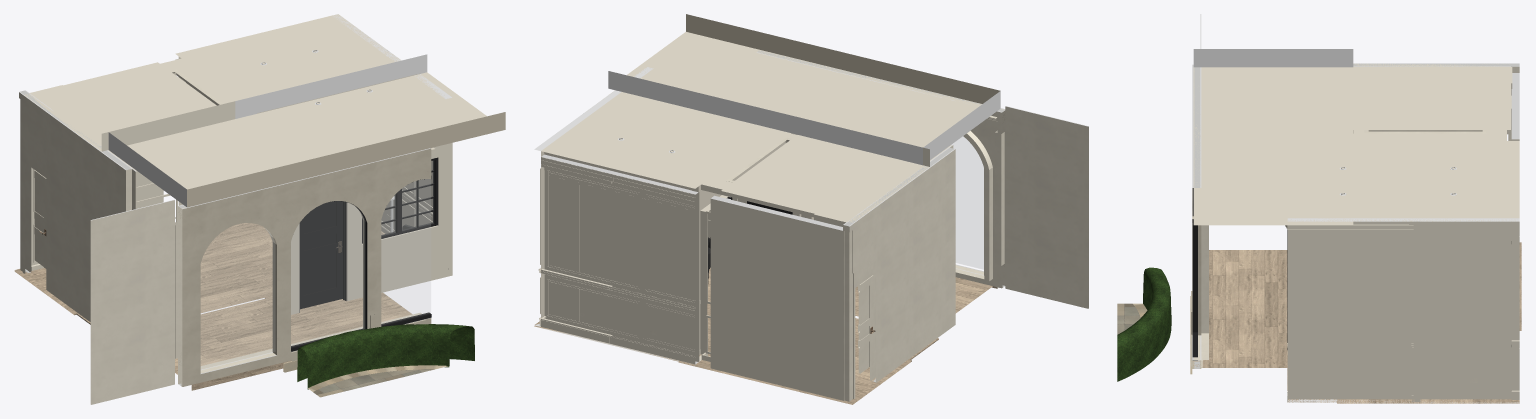
Rendered from office-east-dfb946144657.glb.
The picture shows the model from 3 angles, left to right: view 1: azimuth 30°, elevation 25°; view 2: azimuth 150°, elevation 25°; view 3: azimuth 270°, elevation 25°; orthographic projection. The views are drawn at different scales.
Parts seen in each view (by area): view 1: office-east-look-dbd60ee5c3733ed6, office-east-look-c9e78b9ec1bb39cd, office-east-look-d5a4a1b5d3594c04, office-east-look-6a051330000fbca1, office-east-look-2575515a05775d9e, office-east-2575515a05775d9e, office-east-look-38561c12898e4d43, office-east-look-c02a36d0521470a9, office-east-look-e7e6fa835f441169, office-east-look-c374268555806af8, office-east-7dc307bfa7ee071d, office-east-look-5cbcc744e6f960f3 (+15 smaller); view 2: office-east-look-dbd60ee5c3733ed6, office-east-look-19647d6da46c2b80, office-east-19647d6da46c2b80, office-east-look-6a051330000fbca1, office-east-look-d5a4a1b5d3594c04, office-east-2575515a05775d9e, office-east-look-2575515a05775d9e, office-east-look-38561c12898e4d43, office-east-7b11e78295c2e11d, office-east-look-c9e78b9ec1bb39cd, office-east-look-0d8abb8bf9b53894, office-east-dbd60ee5c3733ed6 (+17 smaller); view 3: office-east-6a1144f4e43410bb, office-east-look-dbd60ee5c3733ed6, office-east-2575515a05775d9e, office-east-look-2575515a05775d9e, office-east-look-c374268555806af8, office-east-dbd60ee5c3733ed6, office-east-look-e7e6fa835f441169, office-east-7dc307bfa7ee071d, office-east-look-c9e78b9ec1bb39cd, office-east-look-0d8abb8bf9b53894, office-east-19647d6da46c2b80, office-east-07b6babc03834d5e (+18 smaller).
Part boxes in pixels (<box>): office-east-look-dbd60ee5c3733ed6: <box>108,54,505,207</box>; office-east-look-c9e78b9ec1bb39cd: <box>178,148,431,386</box>; office-east-look-d5a4a1b5d3594c04: <box>90,199,174,404</box>; office-east-look-6a051330000fbca1: <box>19,90,136,321</box>; office-east-look-2575515a05775d9e: <box>24,62,235,151</box>; office-east-2575515a05775d9e: <box>175,14,420,113</box>; office-east-look-38561c12898e4d43: <box>201,223,275,369</box>; office-east-look-c02a36d0521470a9: <box>291,201,364,346</box>; office-east-look-e7e6fa835f441169: <box>297,324,474,389</box>; office-east-look-c374268555806af8: <box>175,292,412,390</box>; office-east-7dc307bfa7ee071d: <box>293,97,445,313</box>; office-east-look-5cbcc744e6f960f3: <box>381,179,430,324</box>; office-east-look-dbd60ee5c3733ed6: <box>608,14,1000,165</box>; office-east-look-19647d6da46c2b80: <box>710,195,842,400</box>; office-east-19647d6da46c2b80: <box>541,154,699,364</box>; office-east-look-6a051330000fbca1: <box>843,144,955,401</box>; office-east-look-d5a4a1b5d3594c04: <box>1005,106,1088,308</box>; office-east-2575515a05775d9e: <box>541,92,771,188</box>; office-east-look-2575515a05775d9e: <box>721,135,929,222</box>; office-east-look-38561c12898e4d43: <box>952,137,983,269</box>; office-east-7b11e78295c2e11d: <box>692,110,808,361</box>; office-east-look-c9e78b9ec1bb39cd: <box>756,50,1005,288</box>; office-east-look-0d8abb8bf9b53894: <box>701,129,951,226</box>; office-east-dbd60ee5c3733ed6: <box>615,67,807,129</box>; office-east-6a1144f4e43410bb: <box>1287,218,1519,402</box>; office-east-look-dbd60ee5c3733ed6: <box>1193,49,1353,225</box>; office-east-2575515a05775d9e: <box>1353,141,1519,221</box>; office-east-look-2575515a05775d9e: <box>1353,63,1510,129</box>; office-east-look-c374268555806af8: <box>1192,250,1287,367</box>; office-east-dbd60ee5c3733ed6: <box>1287,141,1353,221</box>; office-east-look-e7e6fa835f441169: <box>1117,267,1171,381</box>; office-east-7dc307bfa7ee071d: <box>1287,144,1295,399</box>; office-east-look-c9e78b9ec1bb39cd: <box>1192,64,1201,368</box>; office-east-look-0d8abb8bf9b53894: <box>1353,67,1512,140</box>; office-east-19647d6da46c2b80: <box>1511,224,1519,390</box>; office-east-07b6babc03834d5e: <box>1295,394,1511,399</box>.
Size of the model in its own units: 7.25 by 3.46 by 6.07.
Materials: 27 (8 with a texture image).
